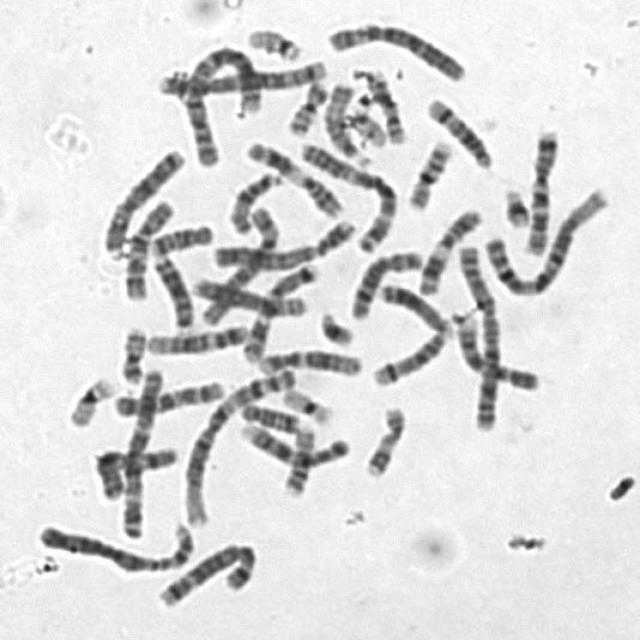A1: (175, 358, 301, 530), (474, 179, 612, 298)
A2: (176, 35, 265, 169), (448, 235, 507, 432)
A3: (294, 134, 402, 252), (114, 358, 169, 542)
B4: (29, 512, 198, 574), (205, 210, 359, 272)
B5: (150, 49, 331, 100), (150, 534, 260, 608)
C10: (115, 191, 177, 303), (105, 371, 228, 419)
C11: (237, 132, 348, 219), (411, 199, 487, 297)
C12: (138, 315, 252, 357), (252, 339, 364, 377)
C6: (193, 196, 283, 326), (320, 13, 469, 83)
C7: (236, 253, 324, 365), (518, 120, 563, 258)
C8: (342, 240, 426, 320), (186, 267, 310, 318)
C9: (444, 304, 542, 393), (234, 413, 354, 470)
D13: (372, 274, 456, 337), (144, 245, 196, 331)
D14: (418, 89, 495, 170), (364, 321, 452, 387)
D15: (320, 80, 374, 168), (221, 164, 284, 235)
E16: (400, 131, 456, 212), (277, 418, 320, 498)
E17: (356, 396, 409, 479), (363, 69, 415, 147)
E18: (145, 214, 217, 258), (234, 394, 304, 434)
F19: (60, 368, 119, 430), (274, 379, 336, 426)
F20: (279, 70, 332, 137), (111, 317, 150, 386)
G21: (312, 302, 357, 347), (496, 178, 534, 229)
G22: (238, 19, 306, 62), (340, 97, 390, 149)
X: (95, 140, 188, 258), (86, 436, 181, 502)
